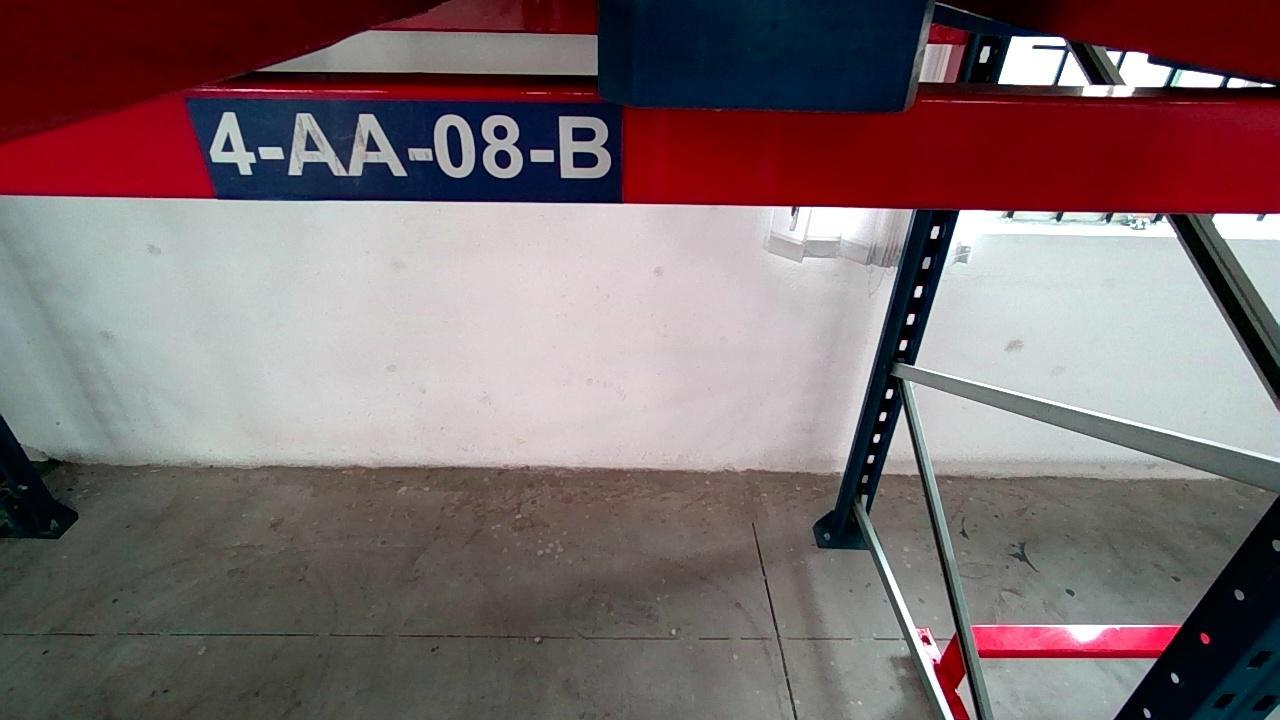h_rack: (5, 87, 1276, 210)
